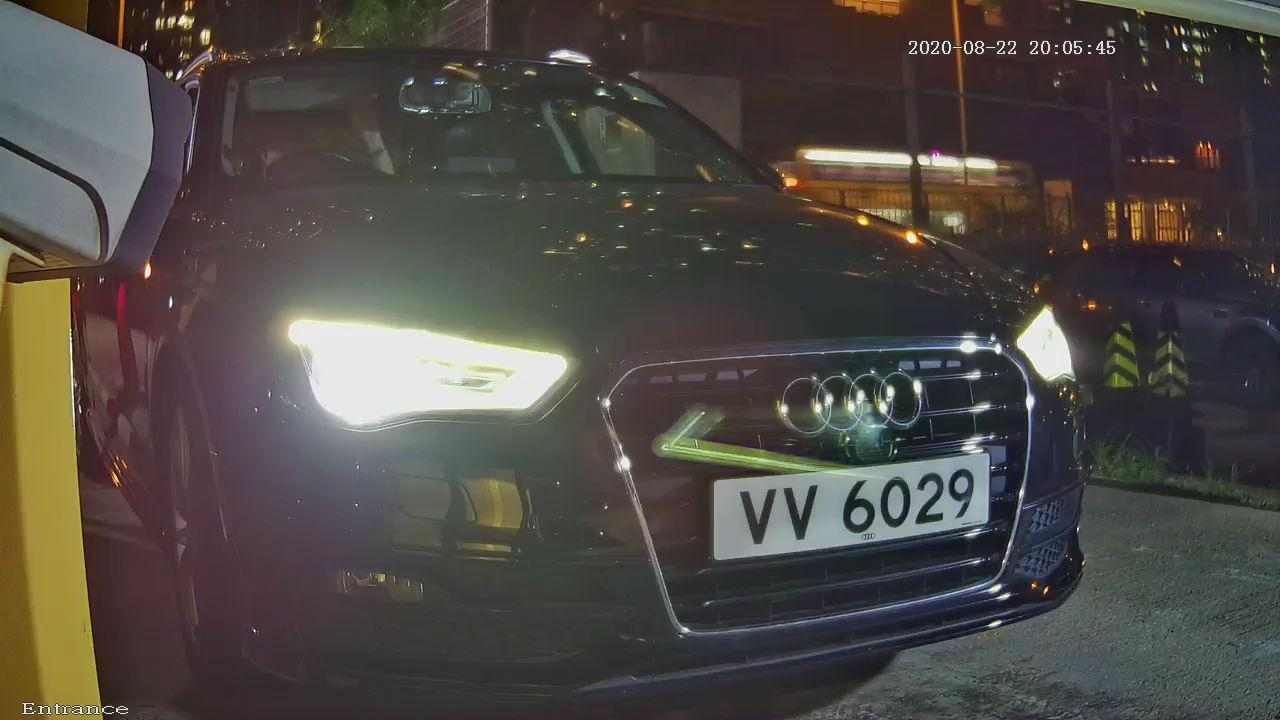Car: (41, 20, 1229, 704)
License Plate: (638, 417, 1030, 606)
